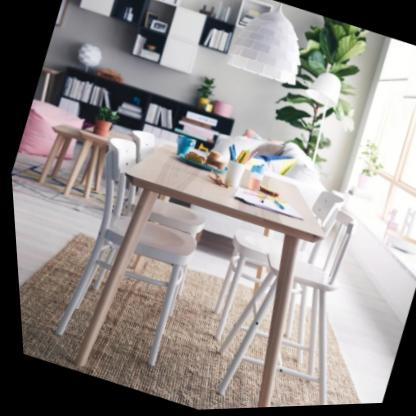Chair: (35, 131, 229, 375), (190, 183, 392, 411)
Table: (47, 124, 347, 415)
